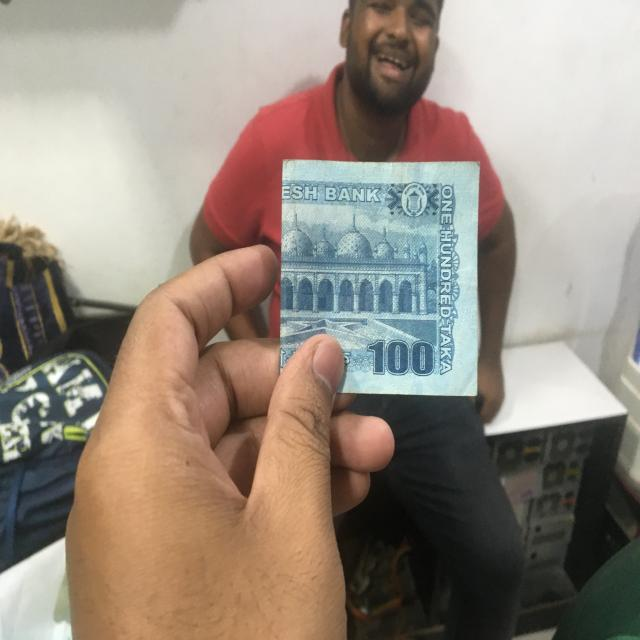Taka: (282, 154, 480, 397)
